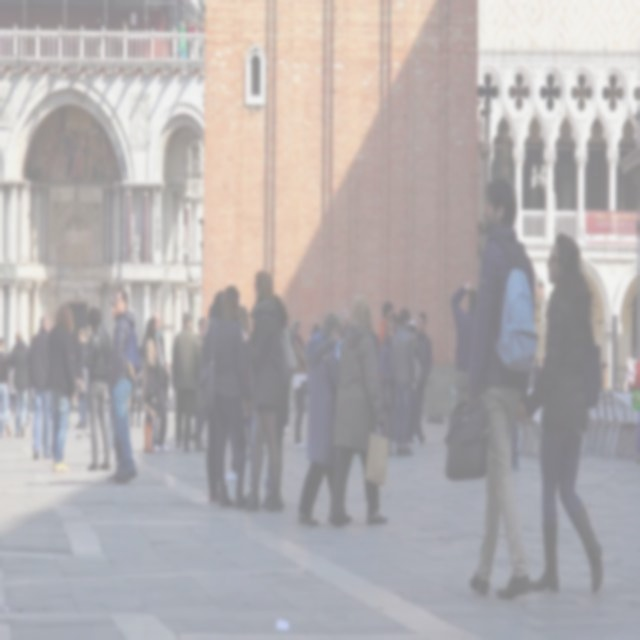pessoa: (516, 229, 606, 596), (464, 176, 538, 602), (330, 292, 388, 531), (297, 310, 354, 532), (240, 268, 286, 515), (210, 282, 253, 510), (37, 110, 120, 186), (107, 290, 137, 470), (46, 300, 76, 473), (201, 300, 225, 504), (172, 311, 204, 454), (84, 305, 111, 472), (27, 313, 57, 460), (448, 280, 481, 412), (389, 304, 417, 459), (354, 306, 382, 456), (138, 316, 166, 454), (106, 290, 124, 482), (288, 316, 312, 451), (150, 311, 172, 454), (5, 328, 32, 439), (412, 309, 433, 443), (379, 318, 398, 456), (238, 304, 254, 463), (173, 16, 206, 71), (74, 326, 90, 431), (406, 323, 419, 448), (0, 334, 12, 438), (126, 364, 144, 428), (377, 300, 395, 350), (92, 13, 106, 64), (207, 289, 225, 324), (197, 316, 210, 355), (161, 360, 171, 408), (118, 16, 128, 60), (338, 306, 350, 342), (598, 360, 610, 393), (190, 404, 200, 442), (247, 304, 256, 335), (532, 355, 540, 388), (312, 324, 321, 339)
